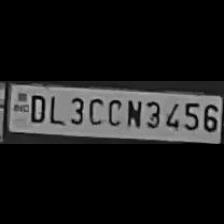3: (65, 92, 85, 124), (142, 96, 162, 128)
4: (162, 97, 180, 129)
5: (180, 98, 200, 130)
6: (200, 100, 218, 132)
C: (86, 93, 104, 125), (104, 94, 122, 125)
D: (26, 91, 46, 123)
L: (45, 90, 63, 124)
N: (122, 95, 142, 127)
